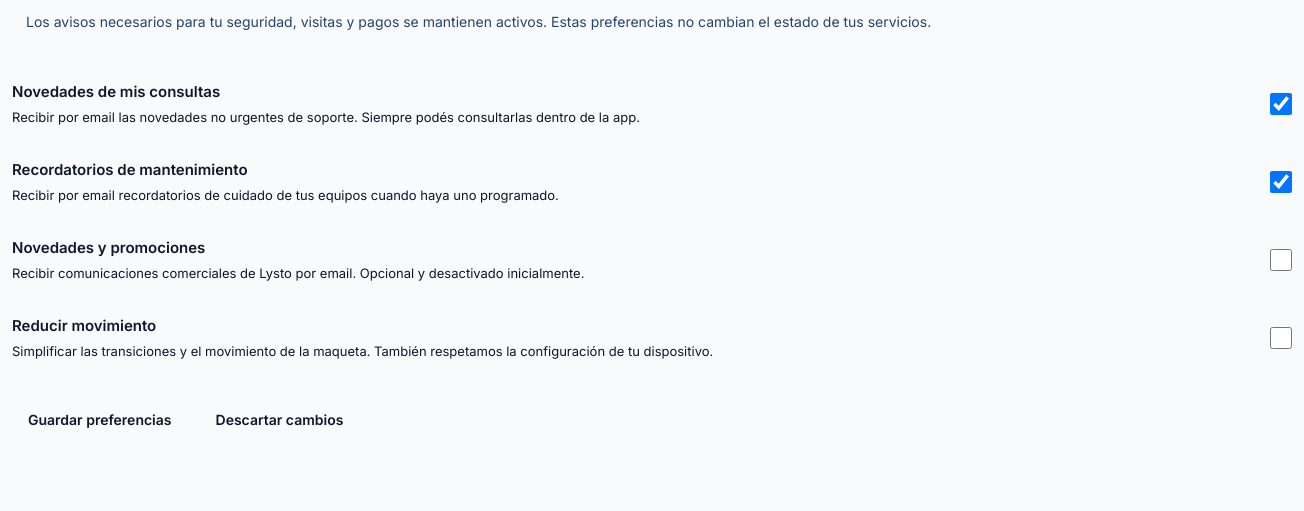
More account forms with actual transport contracts › persists preferences with the displayed version and actor, not just local state
Click the checkbox labelled "Reducir movimiento" at (1281, 338), box [1270,327,1292,349]
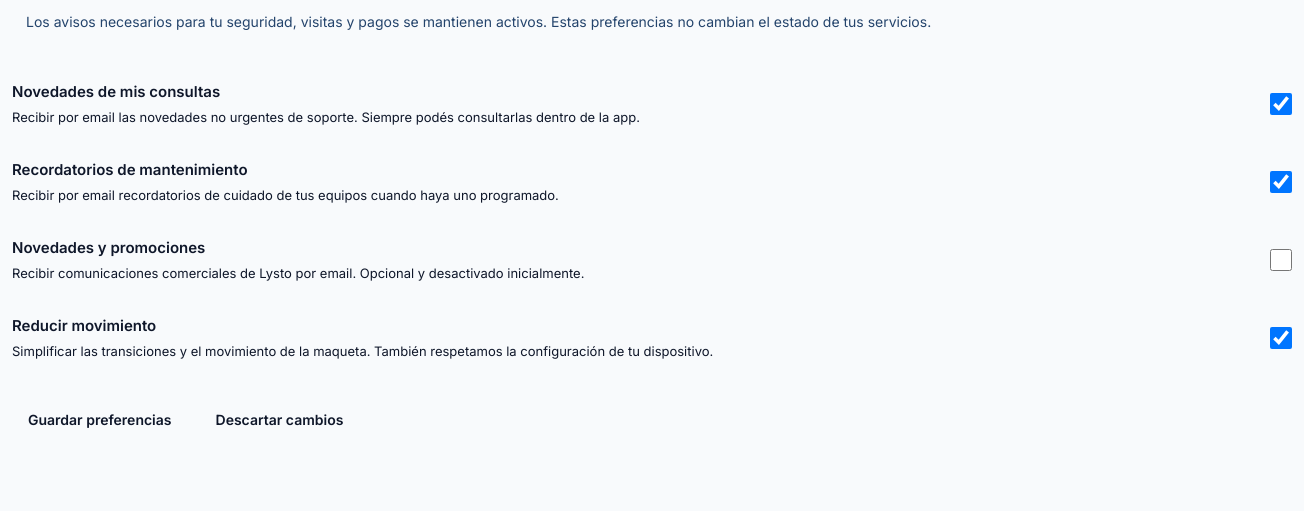
Click the button "Guardar preferencias" at (100, 419), box [12,397,188,441]
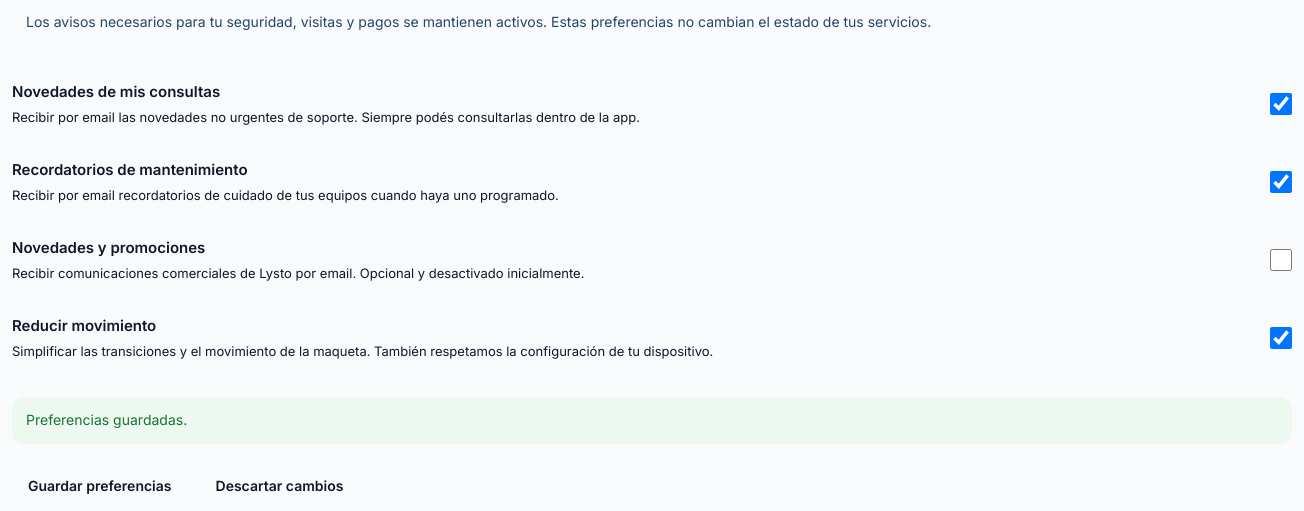
Check: the message shows "Preferencias guardadas", box [26,411,187,428]
